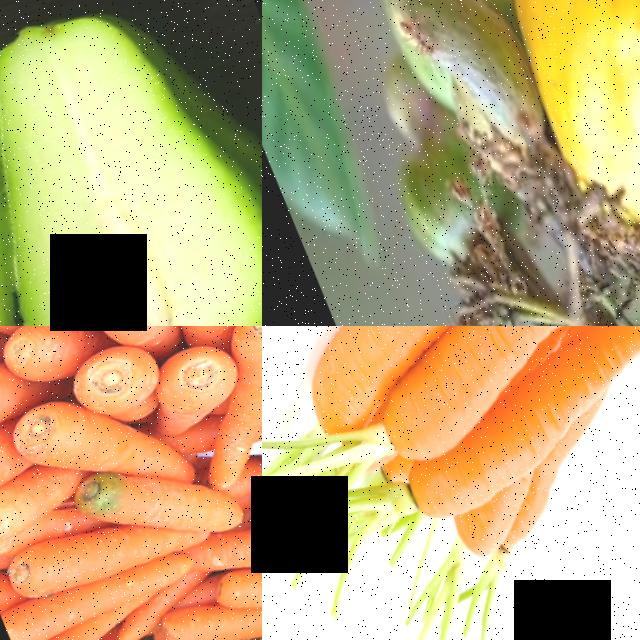carrot: (349, 326, 640, 567), (334, 326, 640, 474), (262, 326, 586, 410), (101, 441, 229, 557), (0, 363, 108, 493), (193, 482, 262, 636), (35, 515, 139, 610), (161, 331, 243, 426), (73, 337, 162, 420), (0, 326, 93, 383), (209, 326, 262, 417), (0, 469, 48, 565), (0, 414, 34, 508), (21, 613, 117, 640), (0, 354, 24, 443), (81, 326, 181, 346)
cashew: (371, 0, 571, 185)
chayote: (0, 0, 262, 326), (0, 67, 74, 326)
